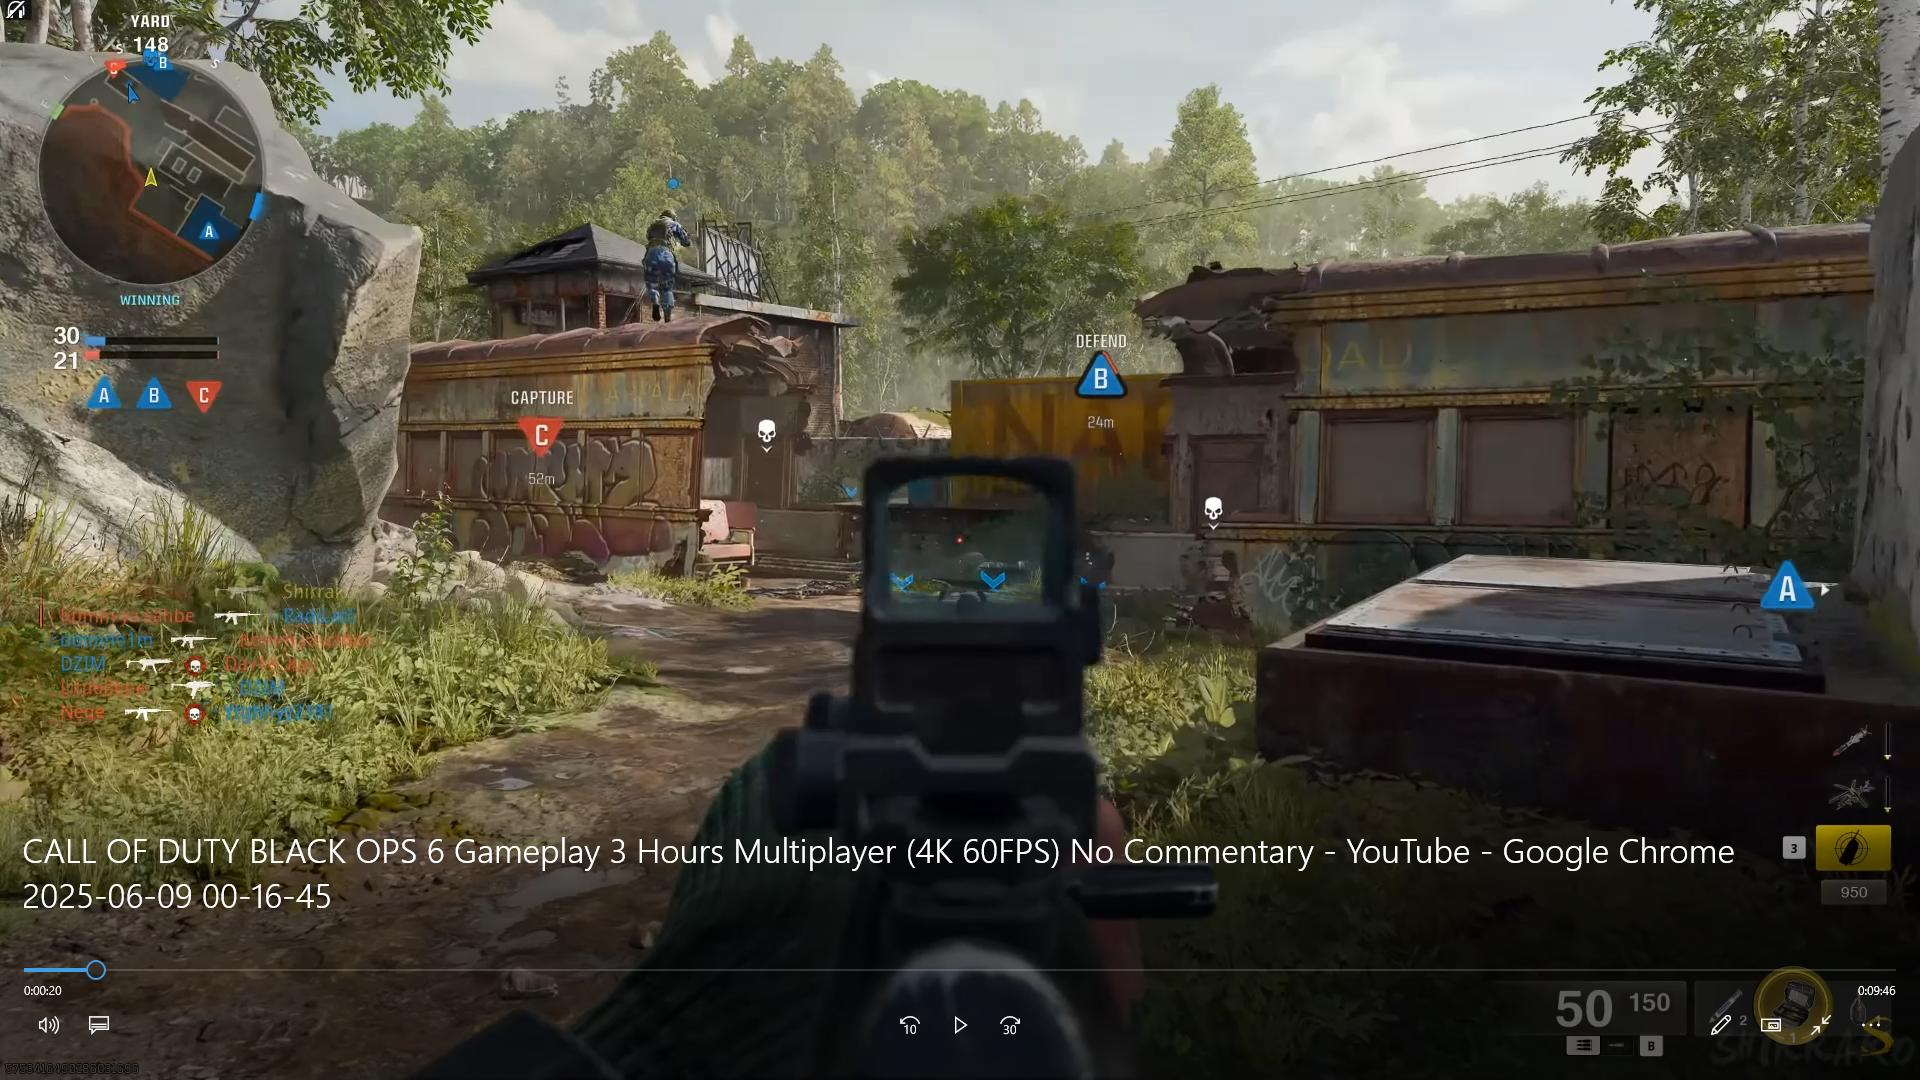Enemy: (634, 202, 690, 323)
